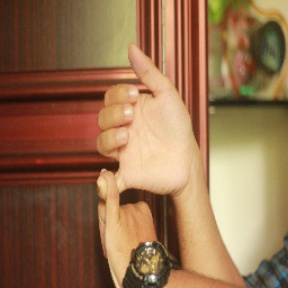S: (85, 39, 195, 283)
